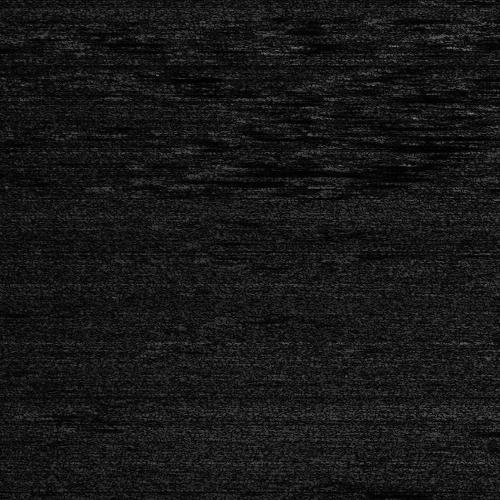rock: (420, 401, 500, 456), (290, 140, 383, 149), (175, 161, 238, 174), (316, 163, 369, 170), (300, 181, 363, 186), (365, 92, 396, 97)
shadow: (207, 161, 390, 174), (462, 401, 500, 456), (337, 140, 449, 149), (343, 163, 399, 170), (332, 181, 388, 186), (381, 92, 400, 97)
